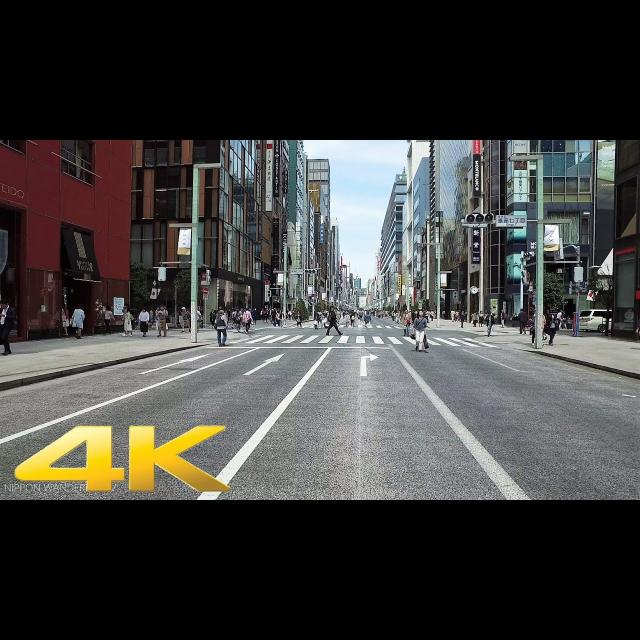head: (0, 298, 10, 310), (78, 304, 84, 310), (219, 310, 225, 316), (418, 311, 424, 317), (549, 314, 555, 320), (161, 305, 165, 311), (62, 304, 66, 308), (106, 307, 110, 311), (142, 308, 146, 312), (126, 306, 130, 310), (127, 308, 131, 312), (156, 307, 160, 311), (182, 308, 186, 312), (246, 308, 250, 312), (264, 308, 268, 312), (214, 310, 218, 314), (334, 308, 338, 312), (404, 310, 408, 314), (560, 310, 564, 314), (562, 312, 566, 316), (540, 312, 544, 316), (535, 313, 539, 317), (520, 309, 524, 313), (488, 312, 492, 316), (197, 307, 200, 311), (237, 310, 240, 314), (255, 308, 257, 312), (249, 308, 251, 312), (278, 311, 282, 313), (228, 301, 230, 305), (316, 310, 318, 314), (318, 310, 322, 312), (502, 310, 504, 314), (481, 310, 483, 314), (462, 310, 464, 314), (164, 305, 166, 309), (366, 313, 369, 315), (151, 310, 153, 312), (234, 310, 236, 312), (229, 308, 231, 310), (271, 308, 273, 310), (298, 314, 300, 316), (212, 310, 214, 312), (347, 313, 349, 315), (352, 313, 354, 315), (361, 309, 363, 311), (475, 312, 477, 314), (452, 309, 454, 311), (457, 311, 459, 313), (431, 310, 433, 312)
person: (0, 298, 16, 356), (412, 310, 430, 354), (70, 302, 86, 340), (212, 309, 228, 347), (325, 307, 343, 337), (529, 309, 543, 347), (102, 306, 116, 336), (157, 304, 169, 338), (138, 306, 150, 338), (546, 314, 558, 346), (122, 306, 134, 336), (536, 311, 548, 341), (59, 303, 69, 337), (180, 306, 192, 334), (242, 307, 254, 335), (516, 308, 528, 336), (485, 310, 497, 338), (121, 304, 131, 336), (192, 306, 202, 334), (402, 309, 412, 337), (160, 304, 170, 332), (235, 309, 243, 333), (556, 309, 564, 331), (316, 309, 324, 329), (558, 311, 566, 331), (154, 306, 160, 330), (478, 310, 486, 328), (232, 308, 238, 330), (246, 308, 254, 324), (364, 313, 372, 329), (225, 308, 231, 328), (212, 309, 218, 329), (313, 310, 319, 330), (500, 309, 506, 329), (460, 310, 466, 330), (252, 307, 258, 325), (262, 308, 268, 324), (275, 310, 281, 326), (268, 307, 274, 323), (297, 313, 303, 329), (208, 309, 214, 325), (225, 301, 231, 317), (345, 312, 351, 328), (349, 312, 355, 328), (472, 311, 478, 327), (358, 309, 364, 323), (450, 309, 456, 323), (150, 308, 154, 326), (454, 310, 460, 322), (430, 310, 434, 322)
